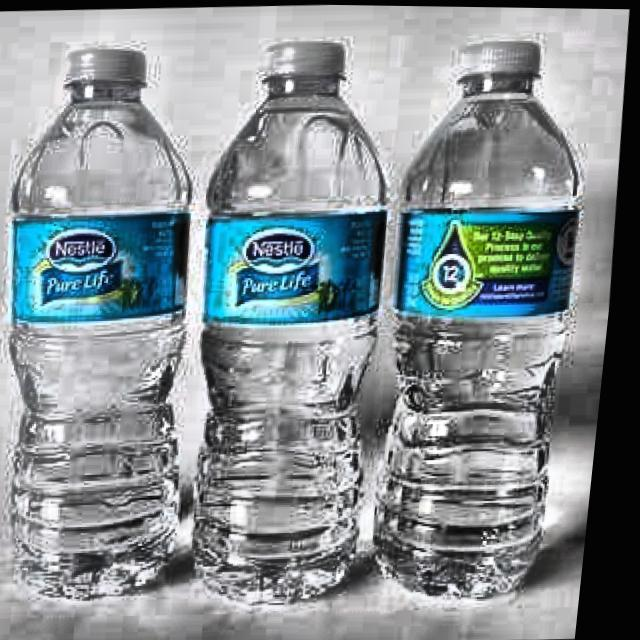Bottles: (353, 21, 625, 613), (162, 33, 442, 605), (0, 37, 245, 603)
